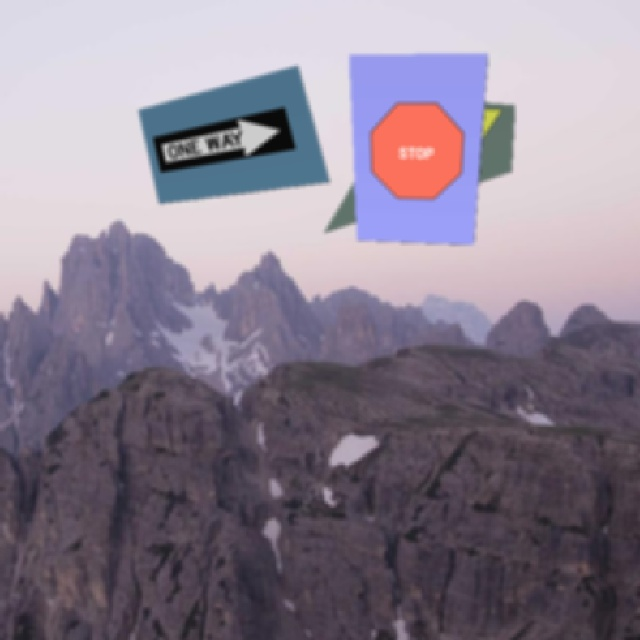ONE_WAY_ right: (152, 102, 295, 182)
STOP: (367, 97, 465, 204)
YIELD: (382, 106, 501, 201)
